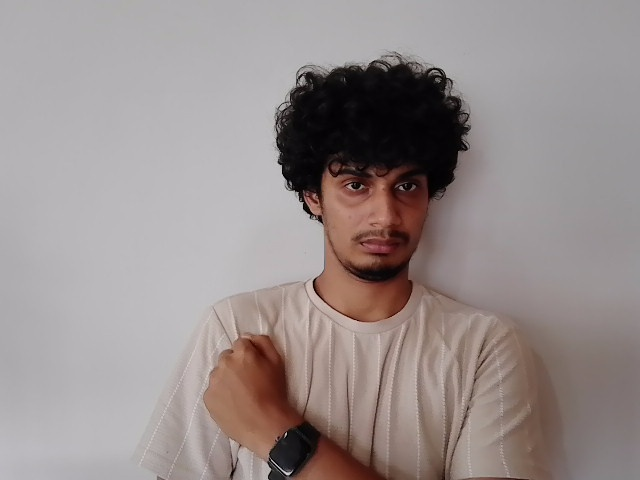sorry: (151, 266, 372, 480)
